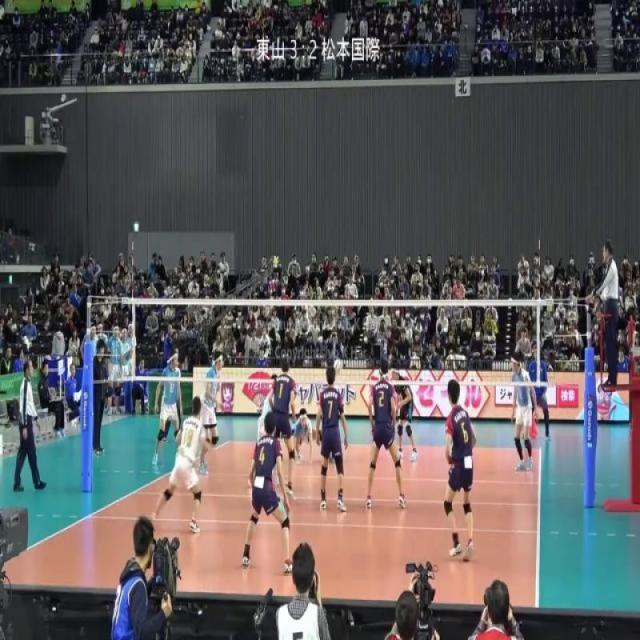volleyball: (333, 357, 344, 373)
